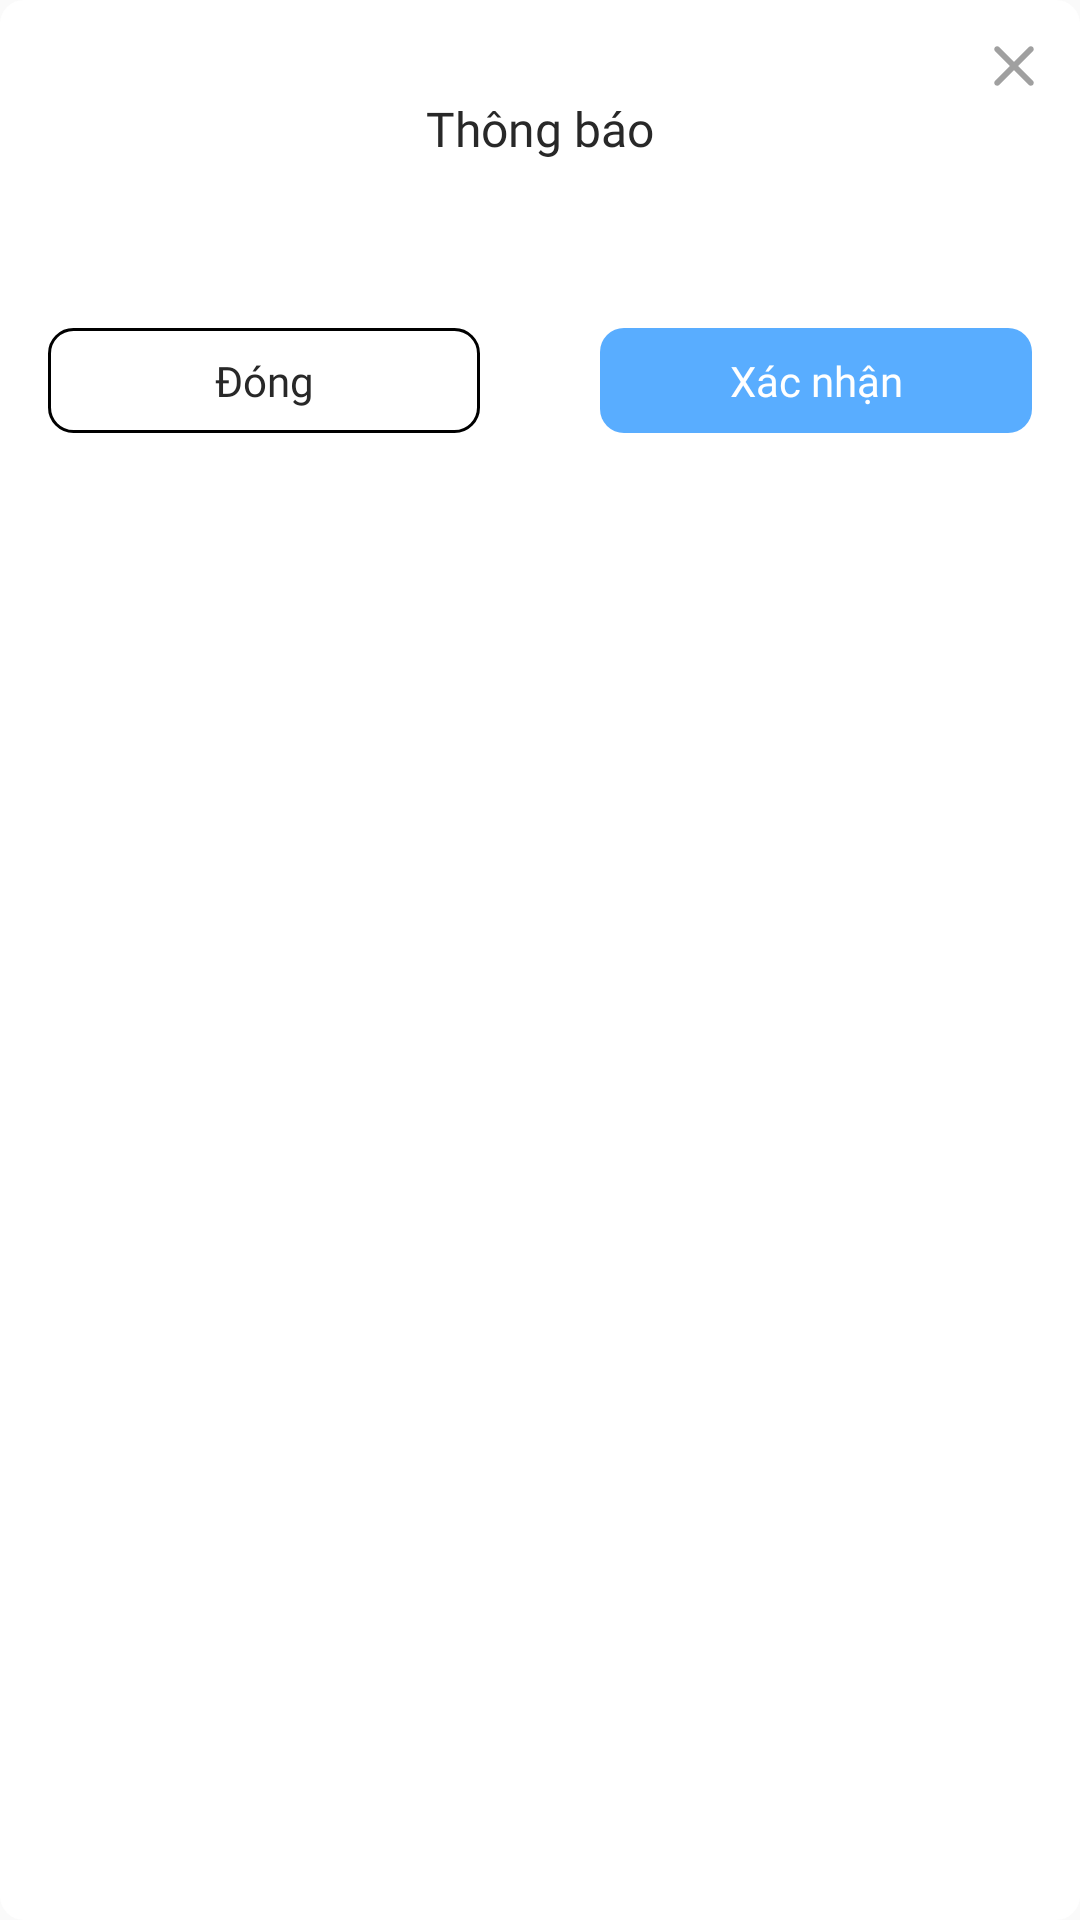

Icon bounding boxes for this 1080px×1920px phone screenshot, format box(x1, y1, x2, y2):
close: box(994, 46, 1034, 86)
